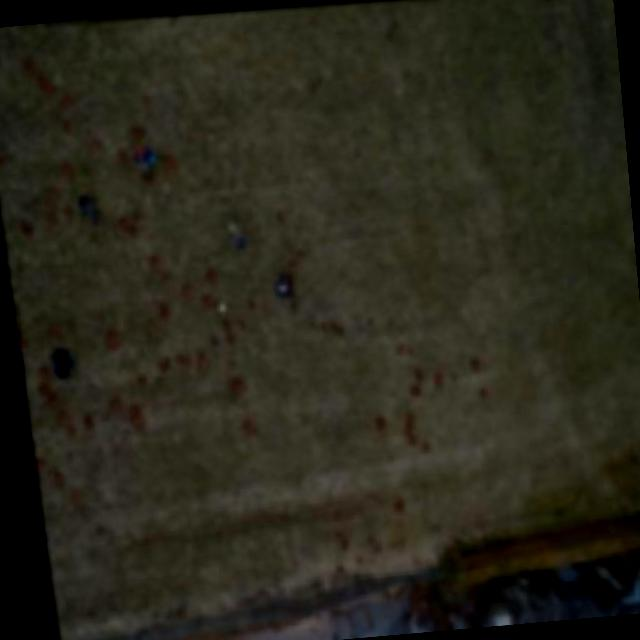Person: (27, 341, 78, 383), (67, 184, 100, 228), (124, 136, 158, 174), (215, 212, 244, 248), (264, 263, 290, 302)
